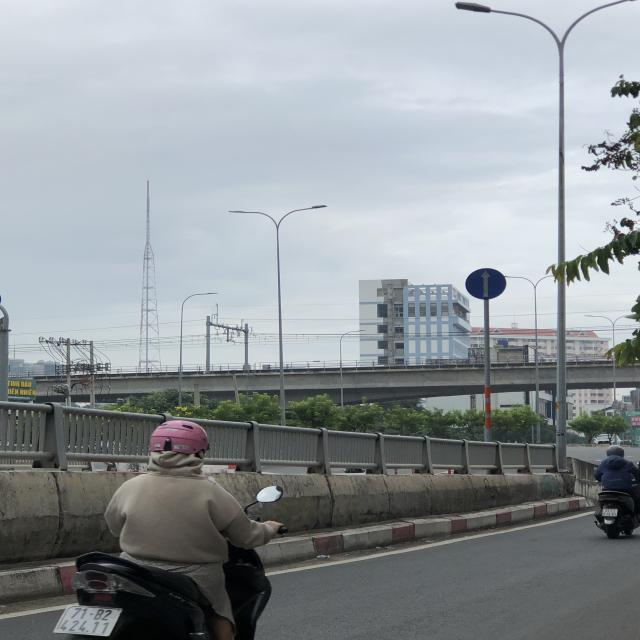Bien bao huong di thang phai theo: (463, 267, 508, 301)
